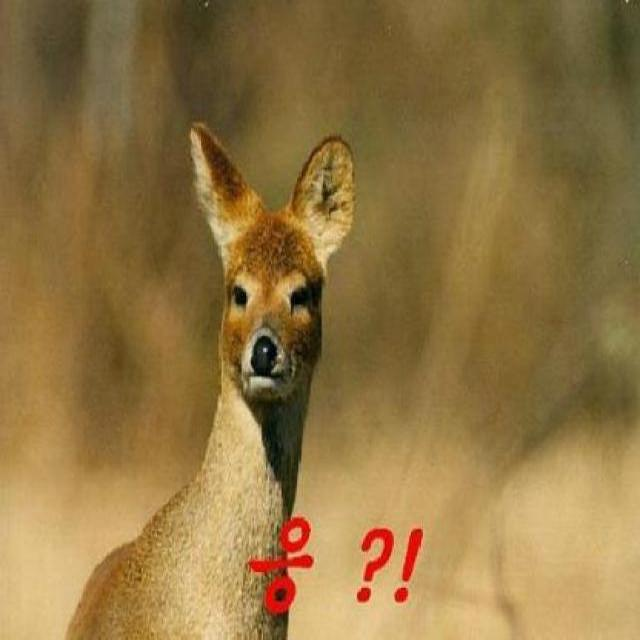deer: (179, 95, 359, 508)
